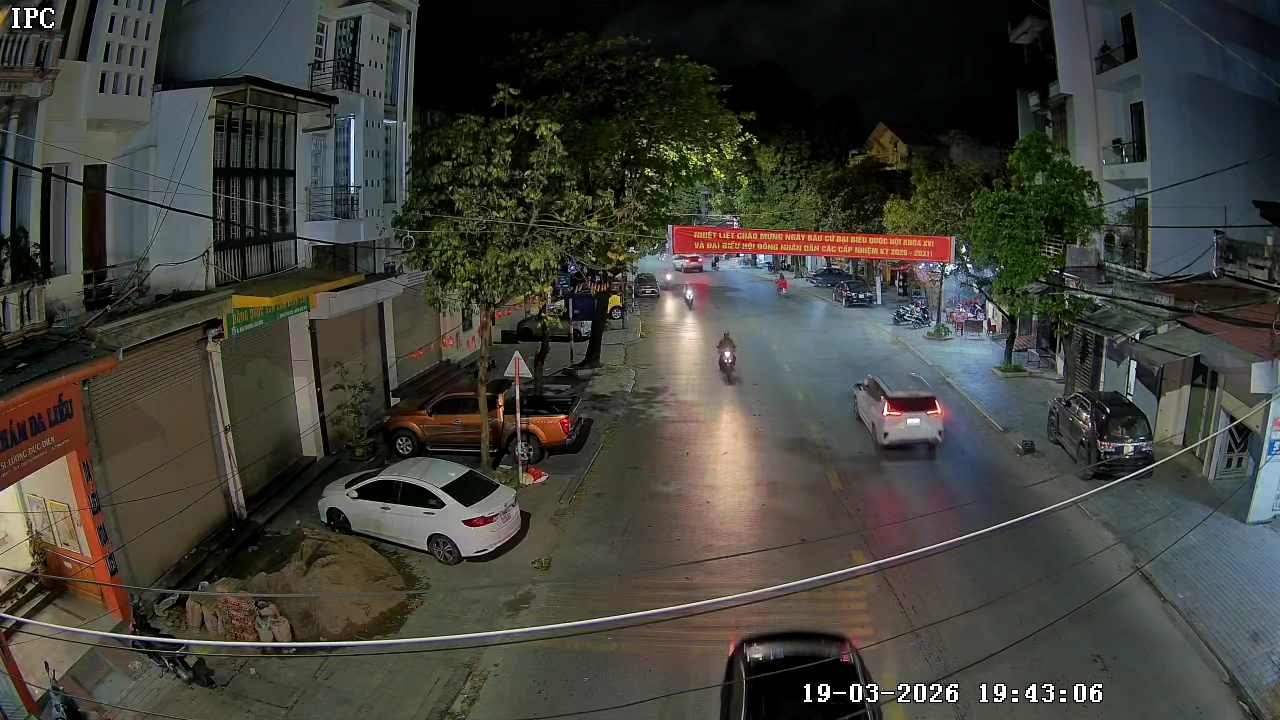car: (318, 454, 532, 562), (852, 371, 946, 455)
motorbike: (715, 329, 741, 385), (678, 280, 702, 312)
